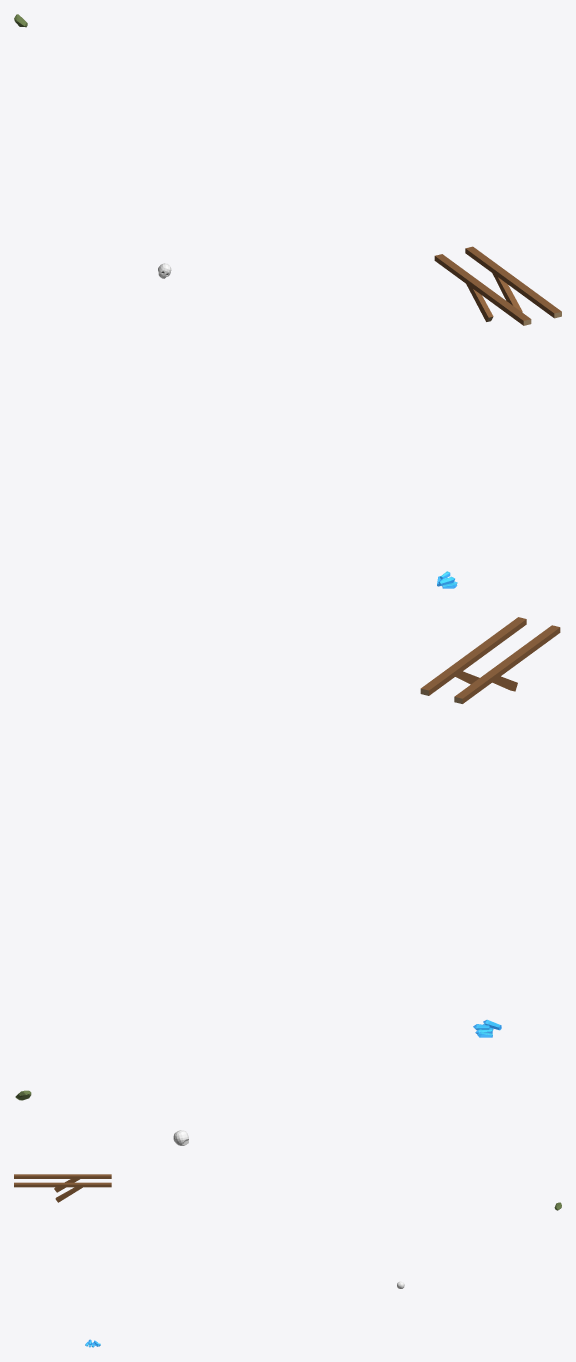
3 views of the same model, one above another, from view 1: azimuth 30°, elevation 25°; view 2: azimuth 150°, elevation 25°; view 3: azimuth 270°, elevation 25° (orthographic). The views are drawn at different scales.
Parts seen in each view (by area): view 1: Box15579_brown_0; view 2: Box15579_brown_0; view 3: Box15579_brown_0.
Boxes of the visible parts, <box> form: Box15579_brown_0: <box>434,246,561,325</box>; Box15579_brown_0: <box>421,617,560,703</box>; Box15579_brown_0: <box>14,1174,111,1202</box>.
Bounding box in the file's own units: 280 × 1597 × 4558.
